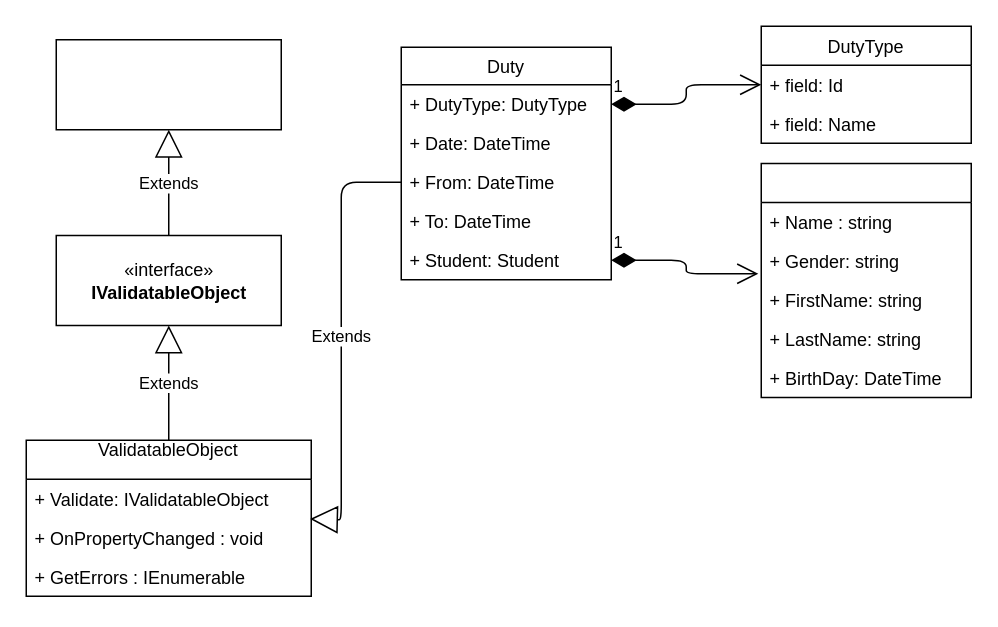
The diagram is 998 pixels wide and 627 high, and some of its shapes have lost their labels. Here are the shapes that lost their labels. From the top down, the box of each, then its label:
(55, 38, 281, 130): «interface» INotifyPropertyChanged
(760, 162, 971, 398): Student
